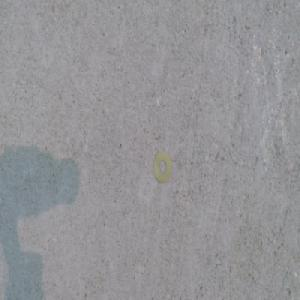Washer: (151, 151, 172, 185)
